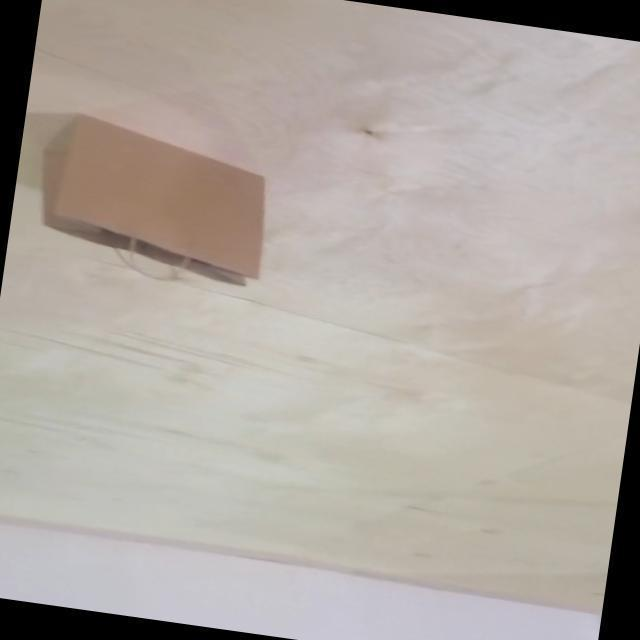Paper_Bag: (29, 109, 280, 295)
